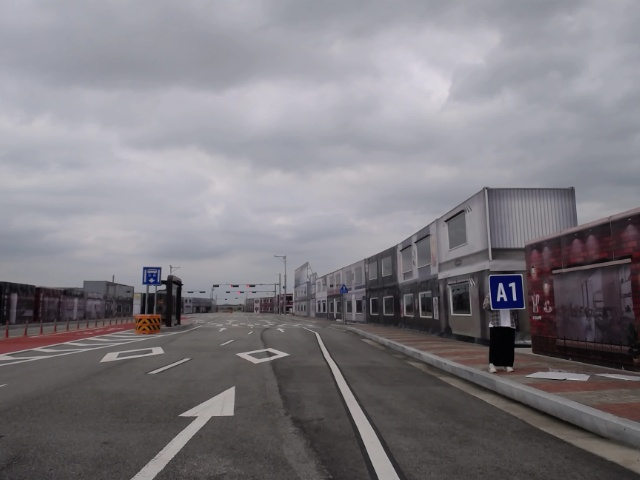delivery_a1: (488, 275, 526, 310)
